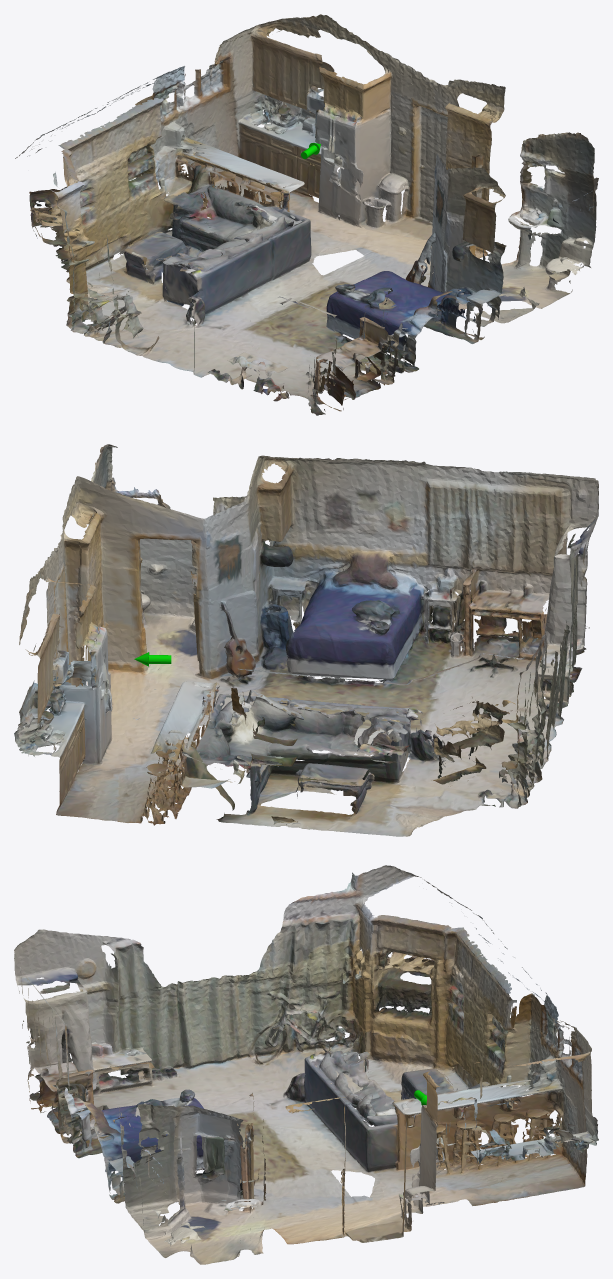
The model's file is situation_8.glb.
The picture shows the model from 3 angles, top to bottom: view 1: azimuth 30°, elevation 25°; view 2: azimuth 150°, elevation 25°; view 3: azimuth 270°, elevation 25°; orthographic projection. The views are drawn at different scales.
Parts seen in each view (by area): view 1: world; view 2: world; view 3: world.
Boxes of the visible parts, x1=… form: world: x1=15, y1=14, x2=598, y2=415; world: x1=14, y1=444, x2=598, y2=836; world: x1=14, y1=865, x2=598, y2=1264.
Bounding box in the file's own units: 8.42 × 3.03 × 8.74.
